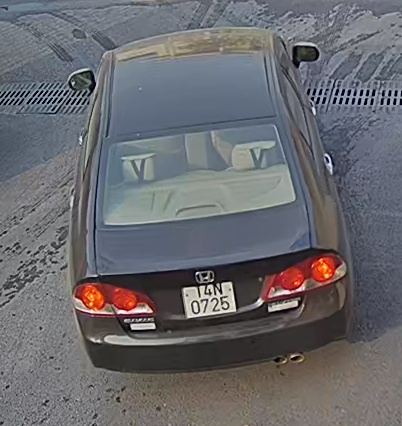vehicle plate: (181, 278, 240, 314)
